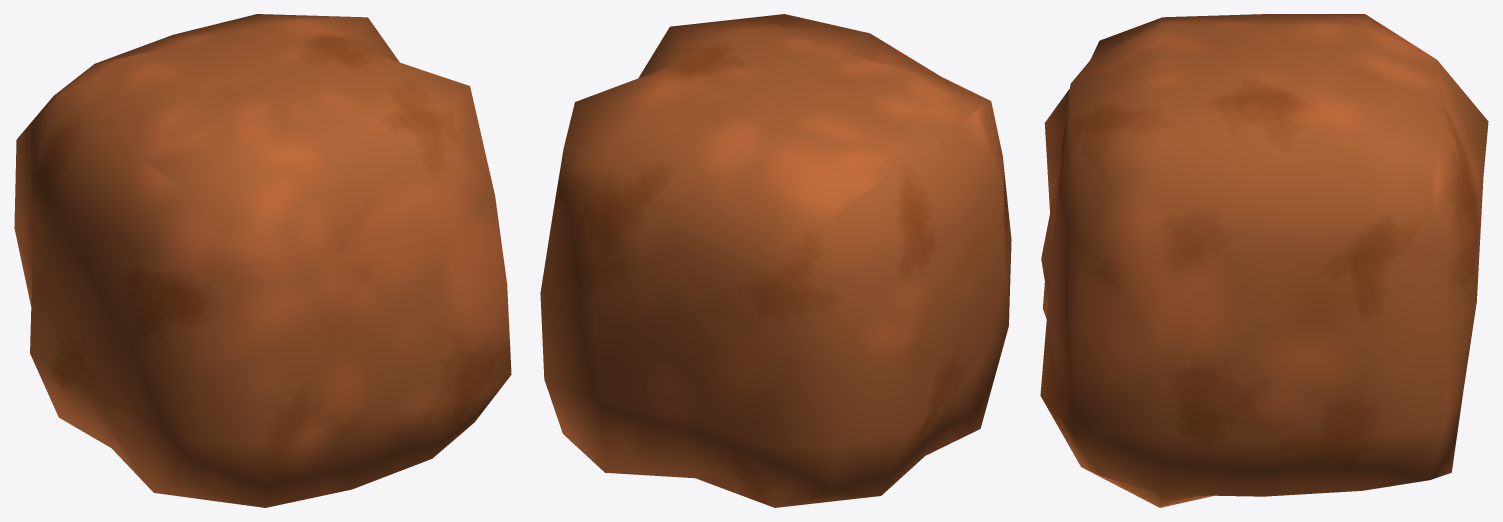
Rendered from MeatBall.fbx.
The picture shows the model from 3 angles, left to right: view 1: azimuth 30°, elevation 25°; view 2: azimuth 150°, elevation 25°; view 3: azimuth 270°, elevation 25°; orthographic projection. The views are drawn at different scales.
Visible parts, largest first — view 1: MeatBall; view 2: MeatBall; view 3: MeatBall.
Boxes of the visible parts, x1,y1,x2,y2 form: MeatBall: (14,14,511,507); MeatBall: (540,14,1011,507); MeatBall: (1040,14,1488,507).
Bounding box in the file's own units: 144 × 143 × 144.
1 material, 1 textured.
